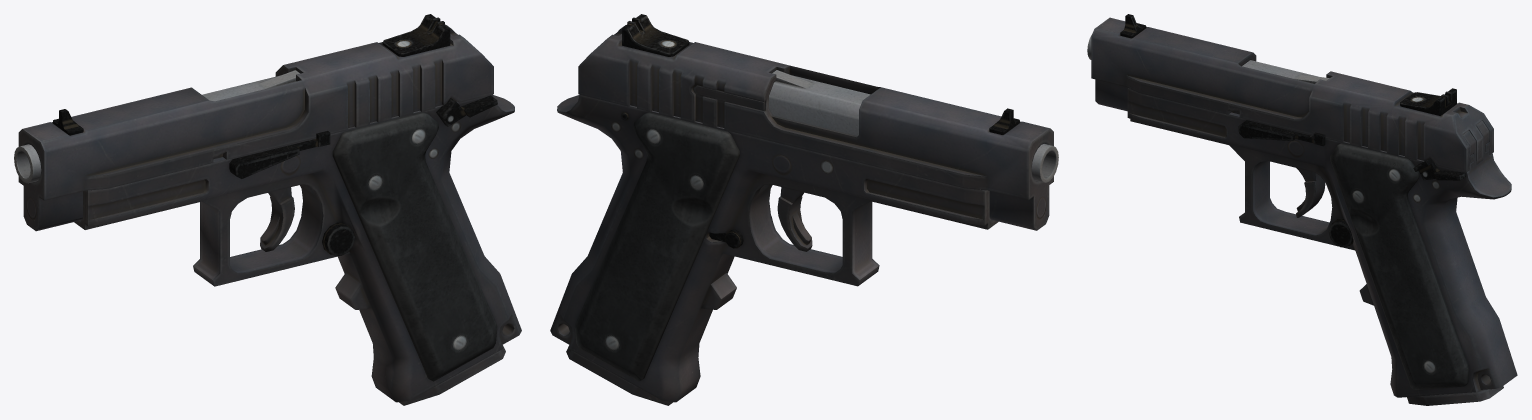
Rendered from pistol.glb.
The picture shows the model from 3 angles, left to right: view 1: azimuth 30°, elevation 25°; view 2: azimuth 150°, elevation 25°; view 3: azimuth 330°, elevation 25°; orthographic projection. The views are drawn at different scales.
Visible parts, largest first — view 1: lower, slide, trigger_pistol_0, mag; view 2: lower, slide, trigger_pistol_0, mag; view 3: lower, slide, mag, trigger_pistol_0.
Boxes of the visible parts, x1,y1,x2,y2 form: lower: (14,70,521,402); slide: (18,14,493,231); trigger_pistol_0: (260,187,294,251); mag: (399,345,505,405); lower: (550,70,1058,402); slide: (578,14,1053,230); trigger_pistol_0: (777,187,812,251); mag: (566,345,673,405); lower: (1087,35,1517,397); slide: (1091,14,1493,172); mag: (1407,386,1503,405); trigger_pistol_0: (1296,168,1325,217).
Size of the model in its own units: 0.4406 by 0.3212 by 0.0667.
Materials: 1 (1 with a texture image).
